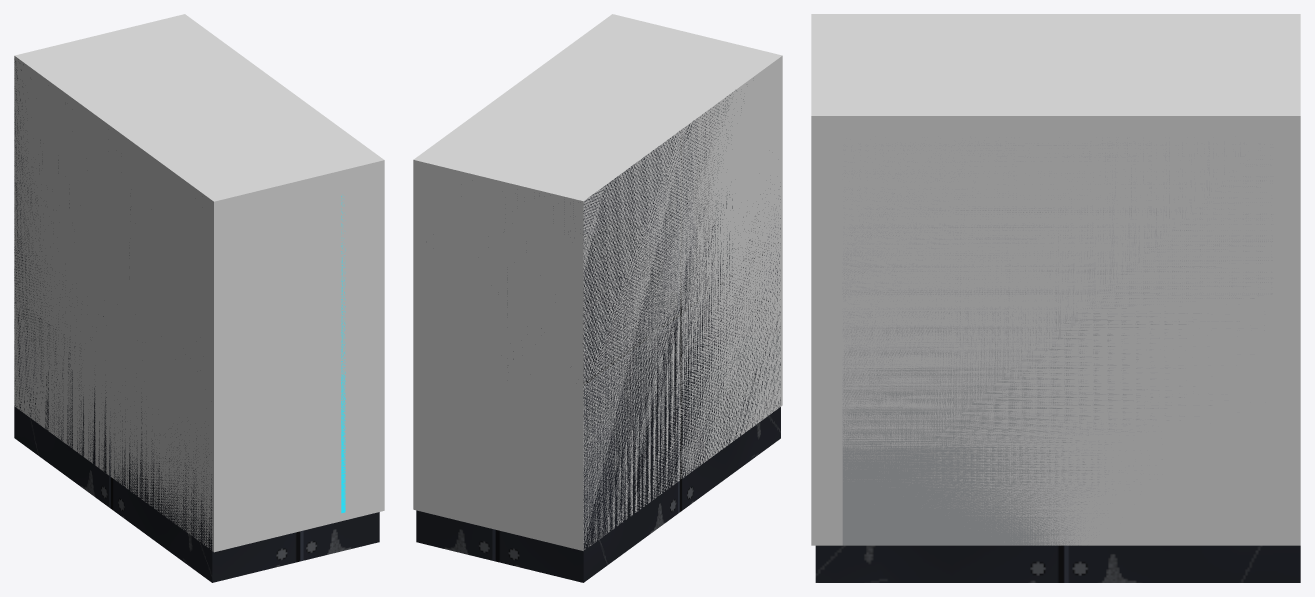
Rendered from Tech_PCTower.001.gltf.
3 views of the same model, side by side, from view 1: azimuth 30°, elevation 25°; view 2: azimuth 150°, elevation 25°; view 3: azimuth 270°, elevation 25° (orthographic). The views are drawn at different scales.
Parts seen in each view (by area): view 1: Tech_PCTower.001_COL, Tech_PCTower.001; view 2: Tech_PCTower.001_COL, Tech_PCTower.001; view 3: Tech_PCTower.001_COL, Tech_PCTower.001.
Part boxes in pixels (x1,y1,x2,y2): Tech_PCTower.001_COL: (14,14,384,552); Tech_PCTower.001: (14,58,379,582); Tech_PCTower.001_COL: (413,14,782,550); Tech_PCTower.001: (416,90,780,582); Tech_PCTower.001_COL: (811,14,1300,545); Tech_PCTower.001: (815,346,1300,582).
Bounding box in the file's own units: 0.224 × 0.48 × 0.454.
Materials: 4 (2 with a texture image).
